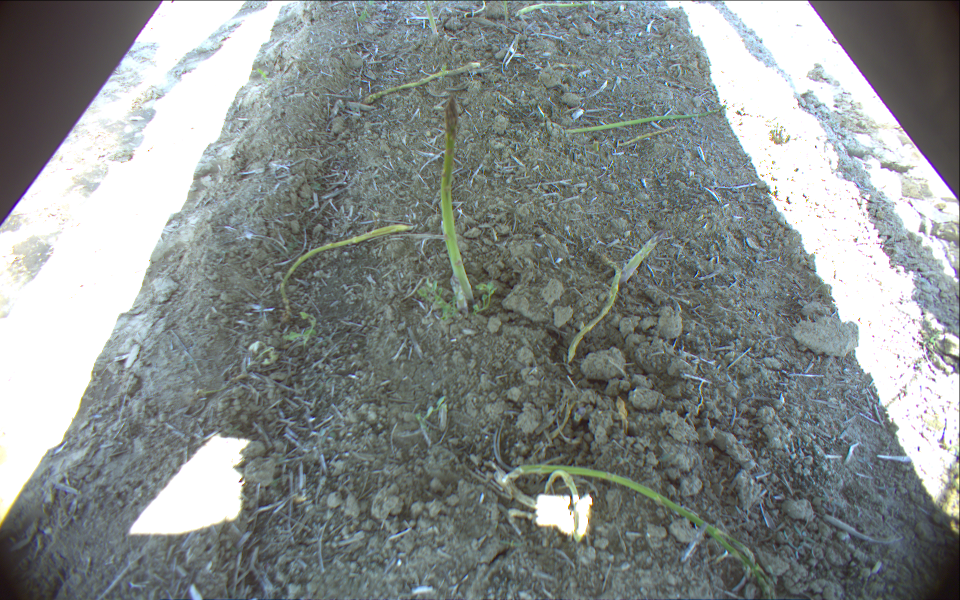aspa: (502, 464, 778, 598), (279, 223, 416, 314), (439, 98, 476, 302), (567, 253, 623, 363), (563, 100, 731, 133), (365, 63, 481, 104), (618, 230, 670, 284), (544, 469, 583, 535), (515, 1, 645, 15), (448, 272, 470, 311), (422, 1, 436, 31)
